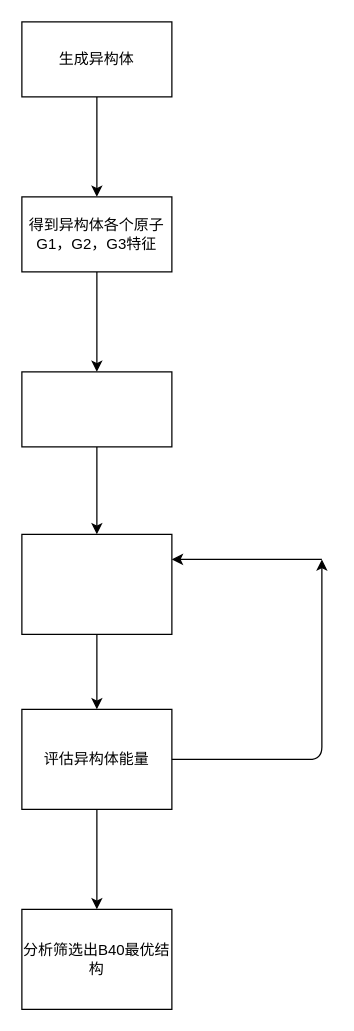
Some shapes in this 354 by 1031 pixel diagram are drawn without their labels. Here are the shapes that lost their labels. From the top down, the centre of each, then its label:
pixel 96 409: 将G1，G2，G3传入XLC能量预测模型
pixel 96 583: 修改参数
